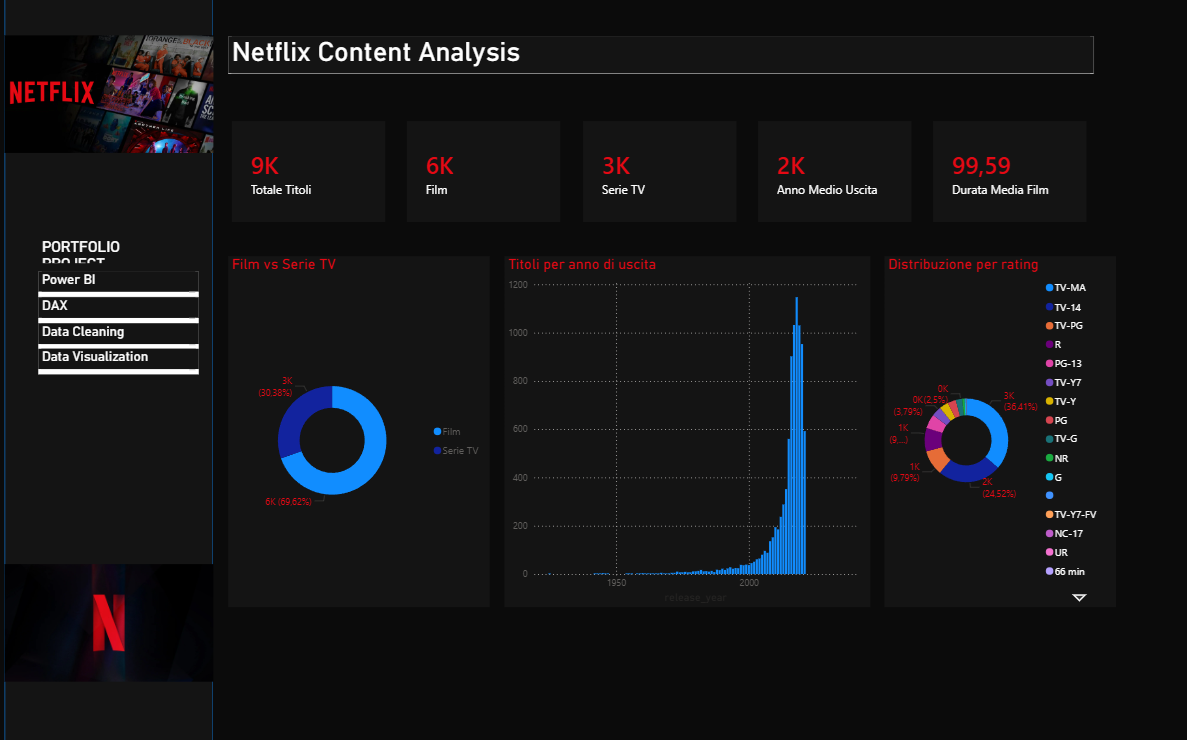

This screenshot's page, from the dashboard's own definition file:
{"tool":"powerbi","page":{"name":"Overview","canvas":[1600,1000],"ordinal":0},"visuals":[{"type":"shape","box":[10.3,0,279.6,1000],"z":0},{"type":"cardVisual","fields":{"Data":["netflix_titles.Totale Titoli"]},"box":[310,165,215,145],"z":1000},{"type":"cardVisual","fields":{"Data":["netflix_titles.Film"]},"box":[545,165,215,145],"z":2000},{"type":"cardVisual","fields":{"Data":["netflix_titles.Serie TV"]},"box":[780,165,215,145],"z":3000},{"type":"cardVisual","fields":{"Data":["netflix_titles.Anno Medio Uscita"]},"box":[1015,165,215,145],"z":4000},{"type":"cardVisual","fields":{"Data":["netflix_titles.Durata Media Film"]},"box":[1250,165,215,145],"z":5000},{"type":"donutChart","title":"Film vs Serie TV","fields":{"Y":["netflix_titles.Film","netflix_titles.Serie TV"]},"box":[310,350,350,470],"z":7000},{"type":"lineClusteredColumnComboChart","title":"Titoli per anno di uscita","fields":{"Category":["netflix_titles.release_year"],"Y":["netflix_titles.Totale Titoli"]},"box":[680,350,490,470],"z":8000},{"type":"donutChart","title":"Distribuzione per rating","fields":{"Y":["netflix_titles.Totale Titoli"],"Category":["netflix_titles.rating"]},"box":[1190,350,310,470],"z":9004},{"type":"image","box":[10.1,46.9,279.8,172.6],"z":9006},{"type":"image","box":[10.1,755.7,279.8,172.6],"z":9007},{"type":"textbox","title":"PORTFOLIO PROJECT","box":[55,325,215,34],"z":9008},{"type":"textbox","title":"Power BI","box":[55,370,215,34],"z":9009},{"type":"textbox","title":"DAX","box":[55,405,215,34],"z":9010},{"type":"textbox","title":"Data Cleaning","box":[55,440,215,34],"z":9011},{"type":"textbox","title":"Data Visualization","box":[55,475,215,34],"z":9012},{"type":"textbox","title":"Netflix Content Analysis","box":[310,55,1160,50],"z":9015}]}

Visuals, with their boxes on the page's 1600x1000 design canvas (x1, y1, x2, y2). These are canvas units, not pixel positions in the 1187x740 screenshot, which may show the page scaled, cropped or inside an application window:
shape: x1=10, y1=0, x2=290, y2=1000
cardVisual - netflix_titles.Totale Titoli: x1=310, y1=165, x2=525, y2=310
cardVisual - netflix_titles.Film: x1=545, y1=165, x2=760, y2=310
cardVisual - netflix_titles.Serie TV: x1=780, y1=165, x2=995, y2=310
cardVisual - netflix_titles.Anno Medio Uscita: x1=1015, y1=165, x2=1230, y2=310
cardVisual - netflix_titles.Durata Media Film: x1=1250, y1=165, x2=1465, y2=310
"Film vs Serie TV" donutChart: x1=310, y1=350, x2=660, y2=820
"Titoli per anno di uscita" lineClusteredColumnComboChart: x1=680, y1=350, x2=1170, y2=820
"Distribuzione per rating" donutChart: x1=1190, y1=350, x2=1500, y2=820
image: x1=10, y1=47, x2=290, y2=220
image: x1=10, y1=756, x2=290, y2=928
"PORTFOLIO PROJECT" textbox: x1=55, y1=325, x2=270, y2=359
"Power BI" textbox: x1=55, y1=370, x2=270, y2=404
"DAX" textbox: x1=55, y1=405, x2=270, y2=439
"Data Cleaning" textbox: x1=55, y1=440, x2=270, y2=474
"Data Visualization" textbox: x1=55, y1=475, x2=270, y2=509
"Netflix Content Analysis" textbox: x1=310, y1=55, x2=1470, y2=105
